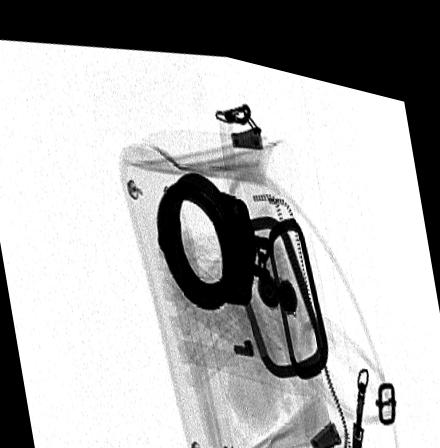HandCuffs: (155, 162, 260, 300)
